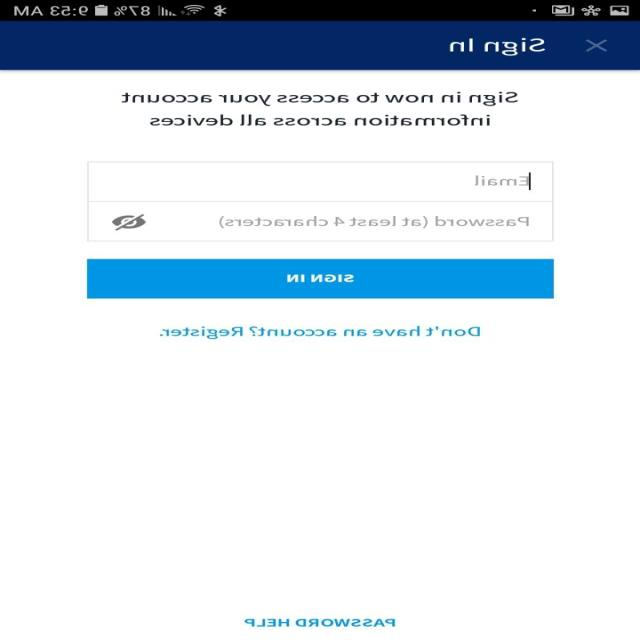EditText: (88, 201, 554, 242), (88, 161, 554, 202)
Icon: (112, 214, 147, 231), (586, 40, 608, 52)
Text: (121, 91, 518, 126), (219, 215, 529, 229), (160, 326, 481, 339), (449, 37, 546, 56), (245, 618, 396, 626), (474, 175, 530, 185)
TextButton: (87, 258, 555, 298)
